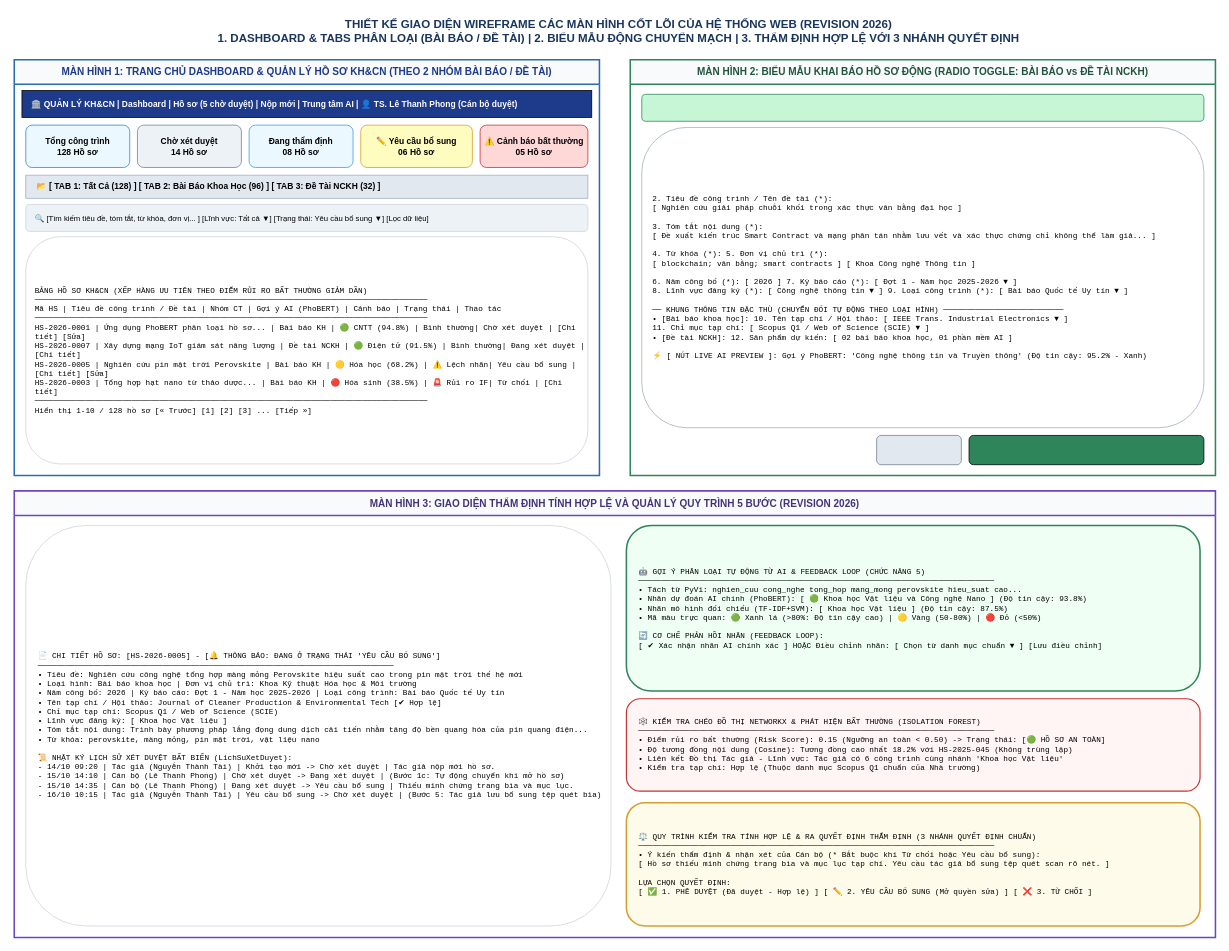
This 1229x951 diagram has some shape labels left out. The centre of each missing label's shape, as x and y in pixels:
"1. LOẠI HÌNH (*): (●) BÀI BÁO KHOA HỌC (○) ĐỀ TÀI NCKH" belongs at pixel 922 107.
"Hủy bỏ" belongs at pixel 918 450.
"✅ LƯU & GỬI HỒ SƠ (Trạng thái: Chờ xét duyệt)" belongs at pixel 1086 450.
